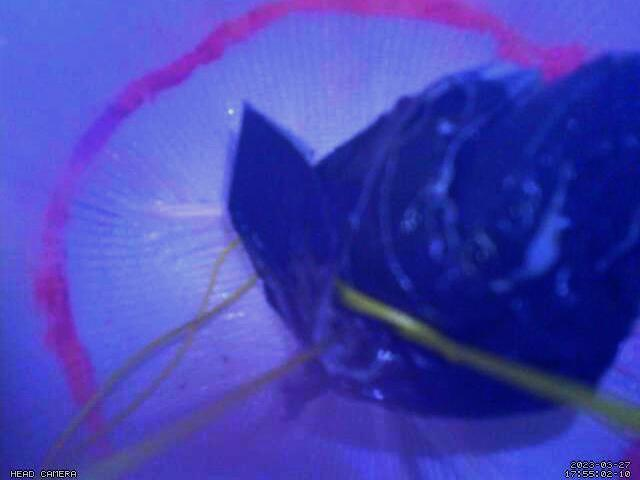head: (34, 0, 640, 480)
